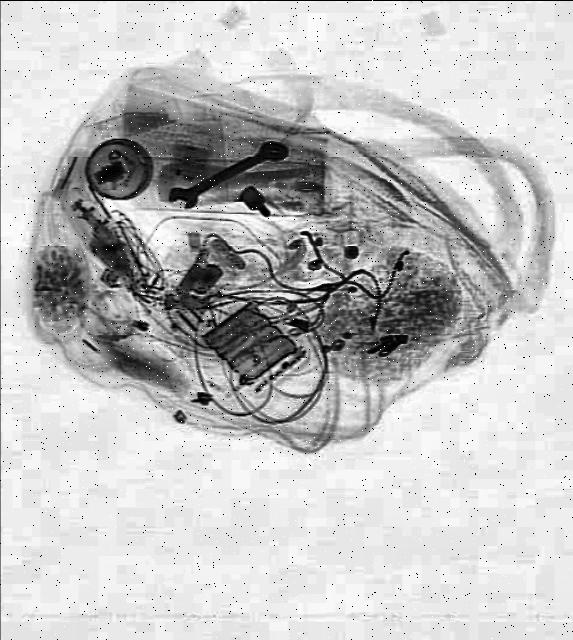Wrench: (164, 132, 291, 218)
